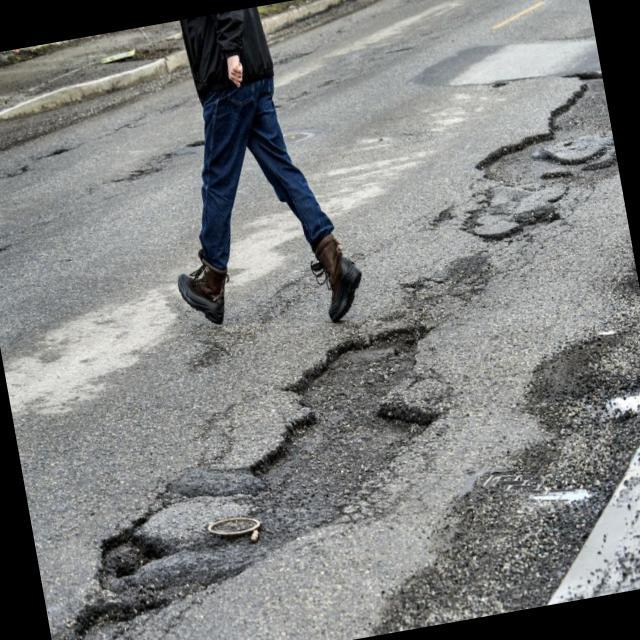Pothole: (228, 318, 450, 518), (466, 118, 588, 226), (84, 510, 174, 597), (546, 62, 614, 152), (65, 583, 167, 640)
